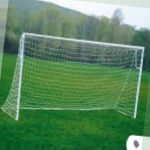goals: (2, 30, 145, 123)
